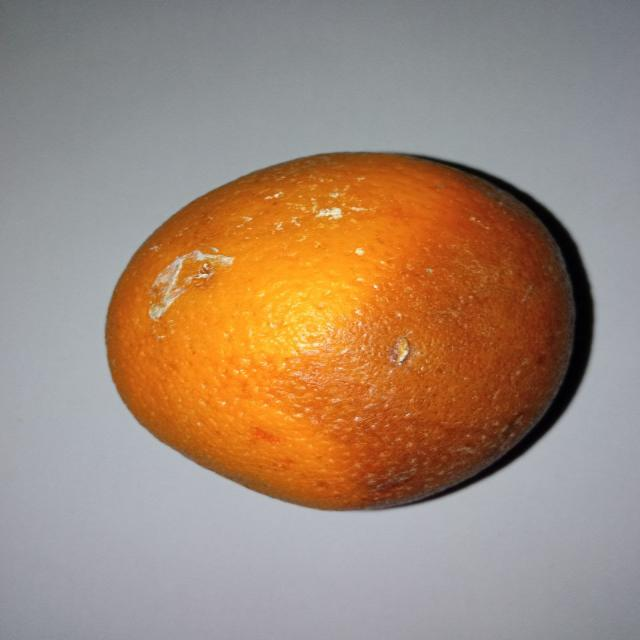rotten_orange: (102, 152, 574, 512)
